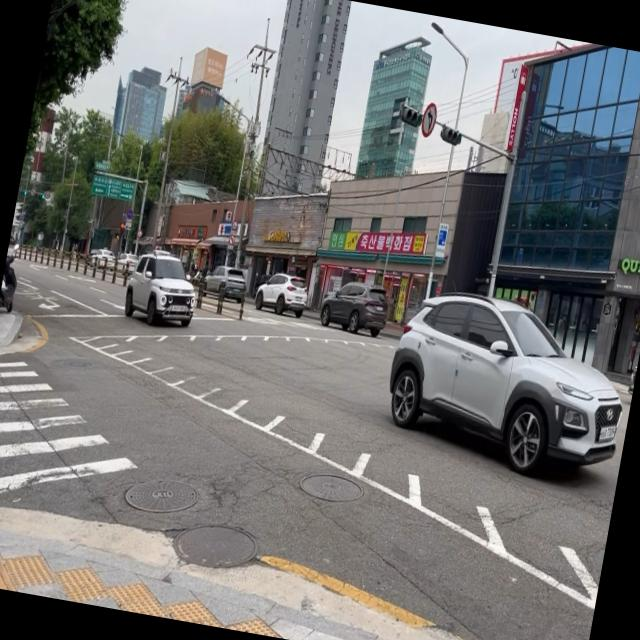building: (448, 43, 640, 314), (252, 0, 353, 206), (90, 48, 192, 188), (352, 28, 436, 187)
car: (376, 279, 638, 489), (120, 244, 202, 331), (317, 276, 392, 338), (252, 268, 310, 318), (197, 260, 250, 304)
